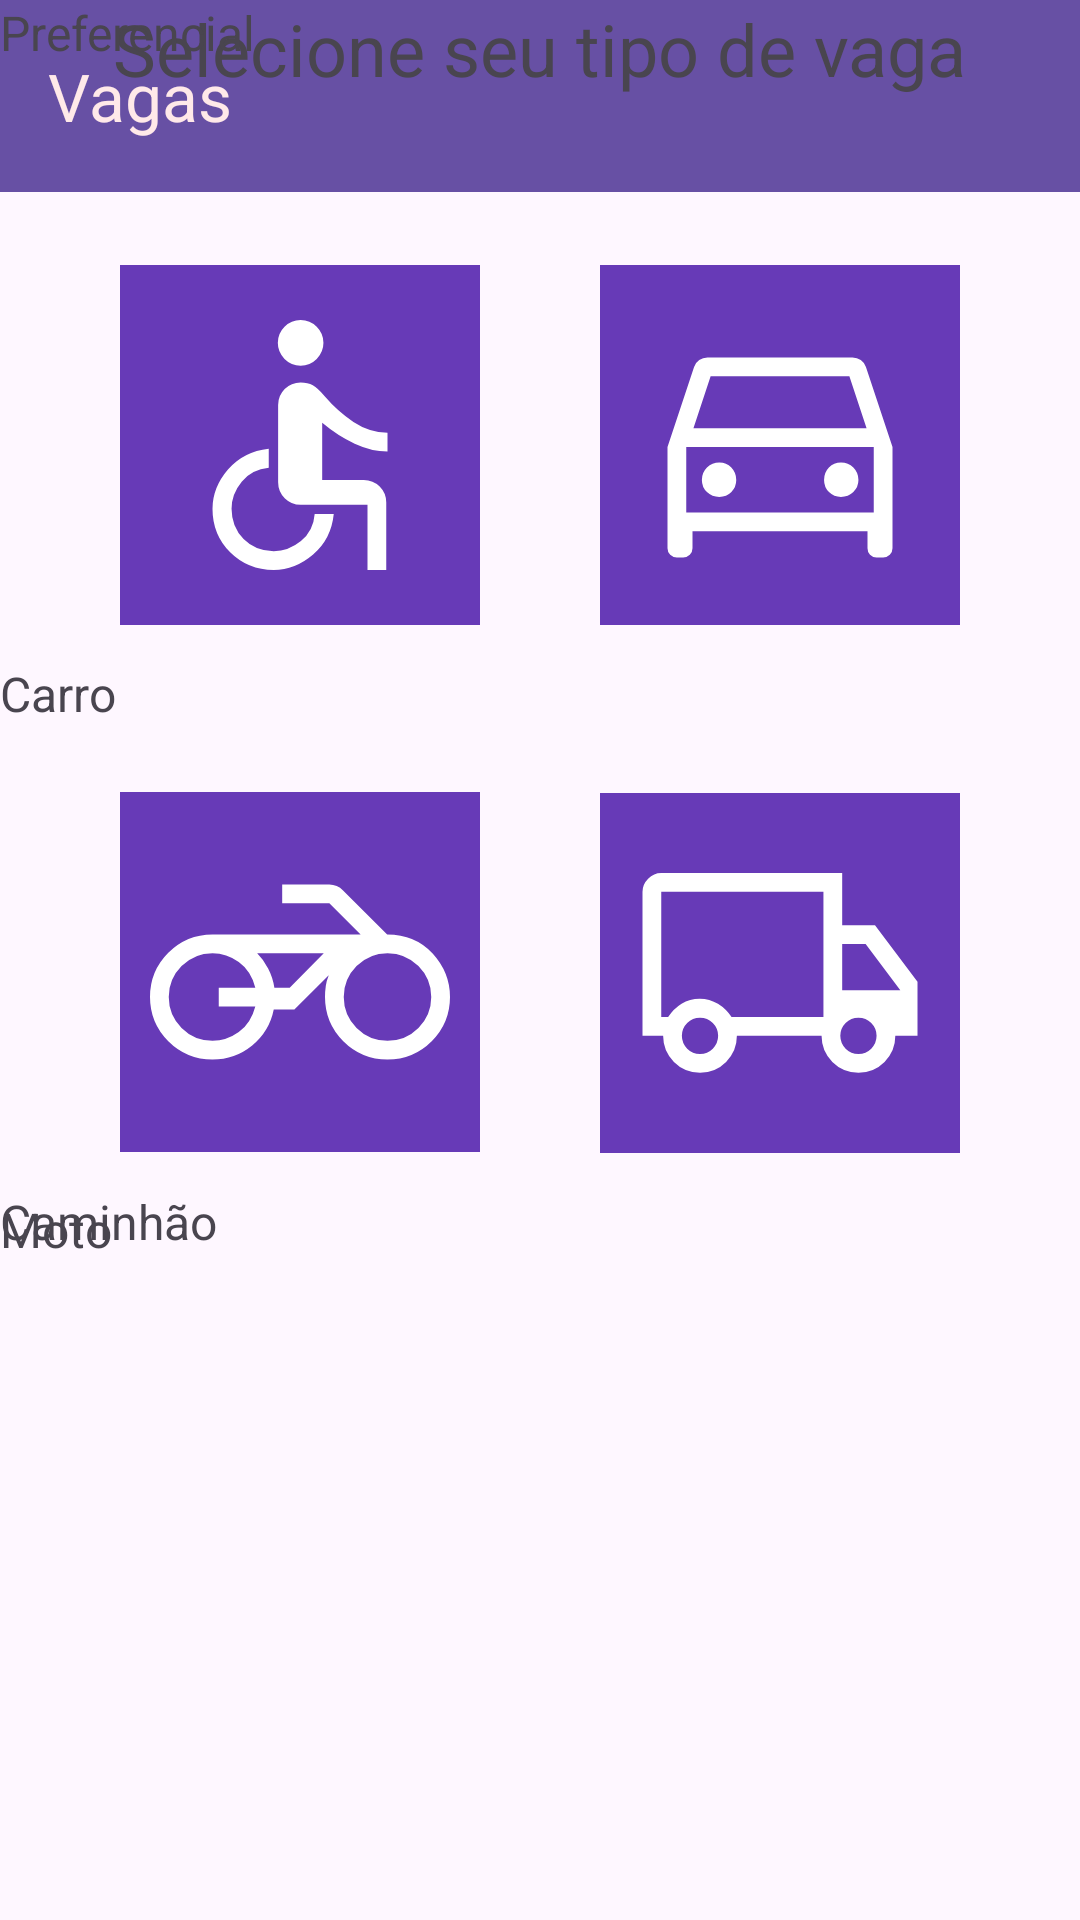

Icon click points for this 1080 x 1920 phone screenshot, format [x,y]:
caminhaoicon: [780,973]
carroicon: [780,445]
pcdicon: [300,445]
